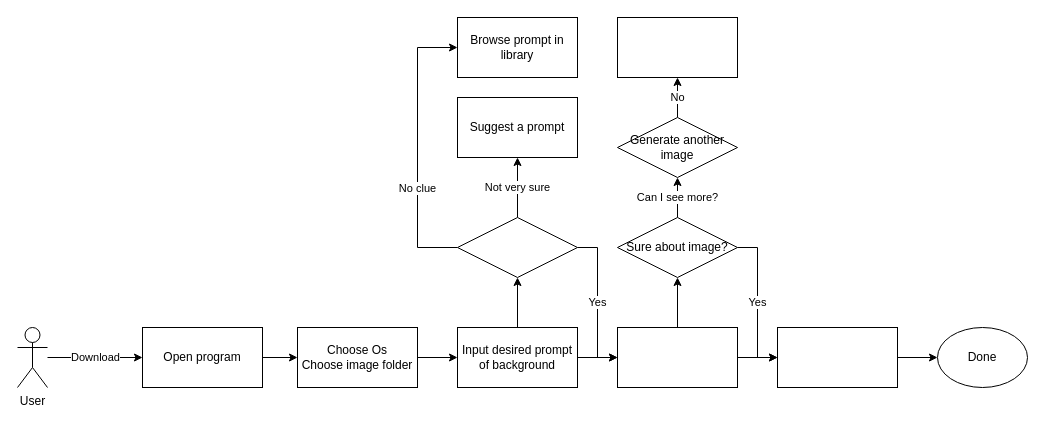
Some shapes in this 1045 by 426 pixel diagram are drawn without their labels. Each missing label, with the centre of its shape:
Input prompt again: point 677,47
Sample background generated: point 677,357
Set up scheduler interval: point 837,357
Sure about prompt?: point 517,247
